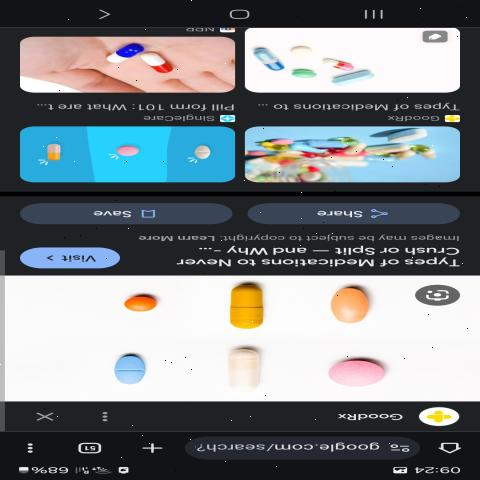Pill: (305, 349, 404, 390), (207, 341, 278, 396), (304, 280, 380, 328), (220, 278, 282, 333), (83, 349, 160, 389), (34, 136, 76, 173), (106, 141, 149, 165), (185, 138, 222, 163)
